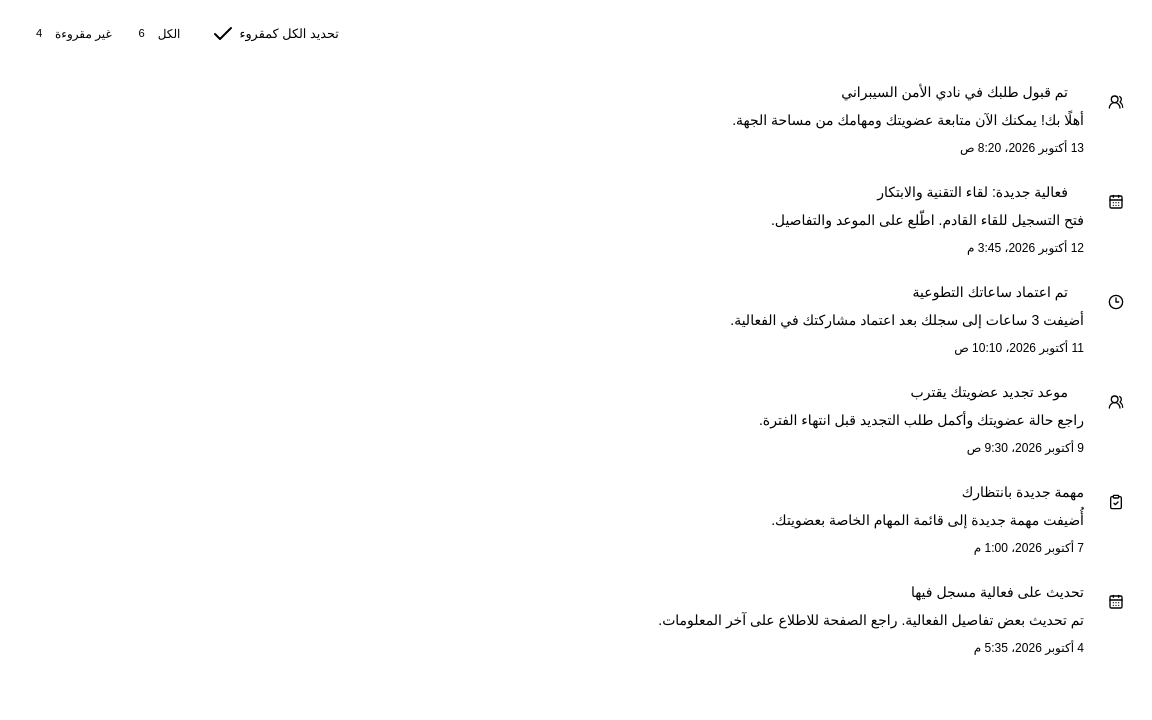
Test: shows sample notifications and lets the user inspect unread and read states without saving
This screenshot has width=1152, height=720.
Expected: the button "تم قبول طلبك في نادي الأمن السيبراني" is shown, x1=12 y1=76 x2=1140 y2=160
Expected: the button "فعالية جديدة: لقاء التقنية والابتكار" is shown, x1=12 y1=176 x2=1140 y2=260
Click the button "تحديد الكل كمقروء" at (275, 34), box x1=201 y1=16 x2=349 y2=52
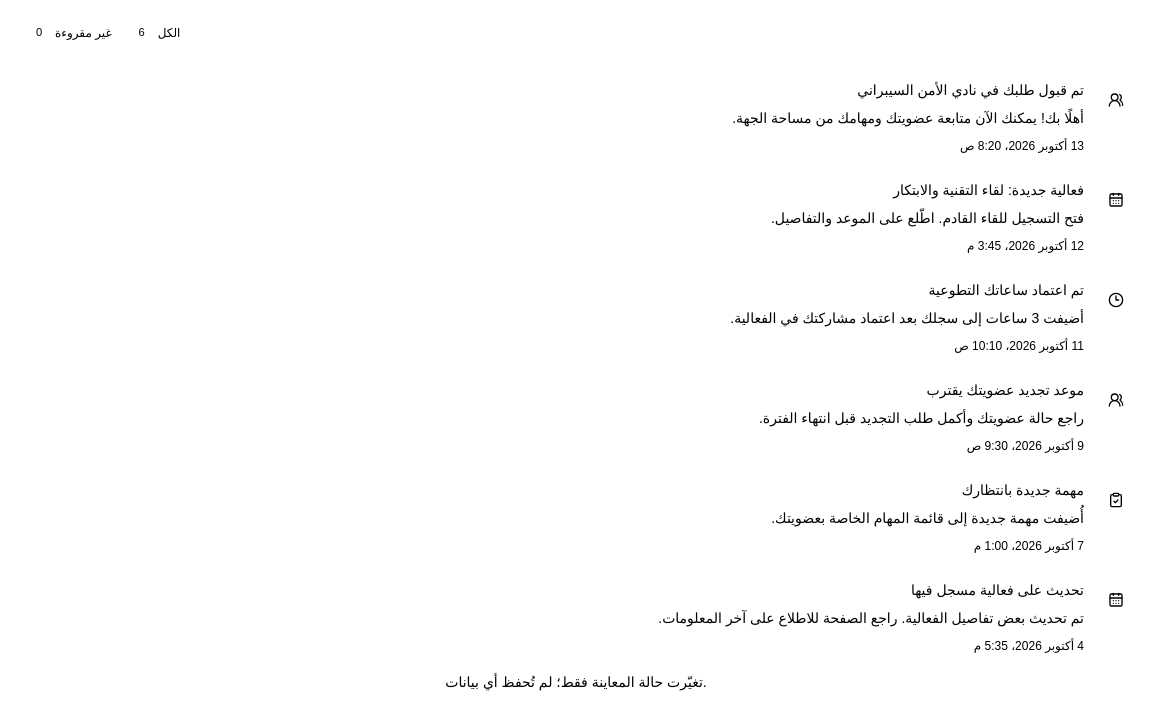
Click the tab "غير مقروءة 0" at (70, 33), box x1=19 y1=19 x2=122 y2=47
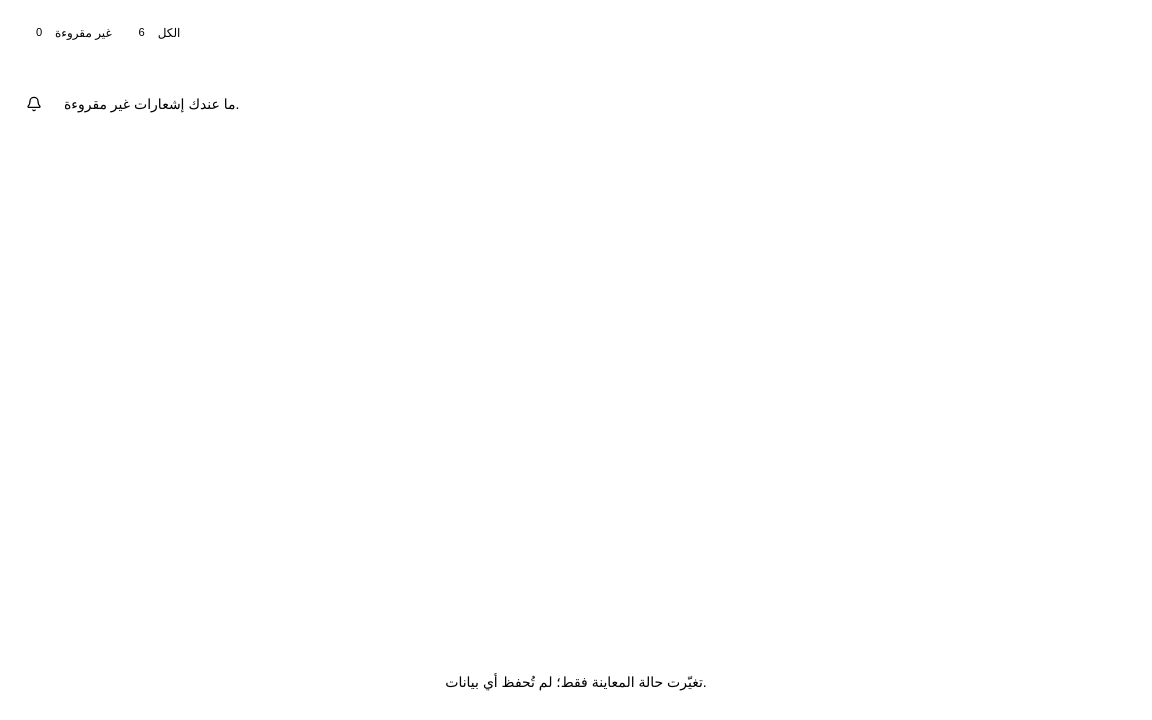
Now the tab "غير مقروءة 0" is shown, box x1=19 y1=19 x2=122 y2=47
Now the text "ما عندك إشعارات غير مقروءة." is shown, box x1=64 y1=94 x2=239 y2=114
